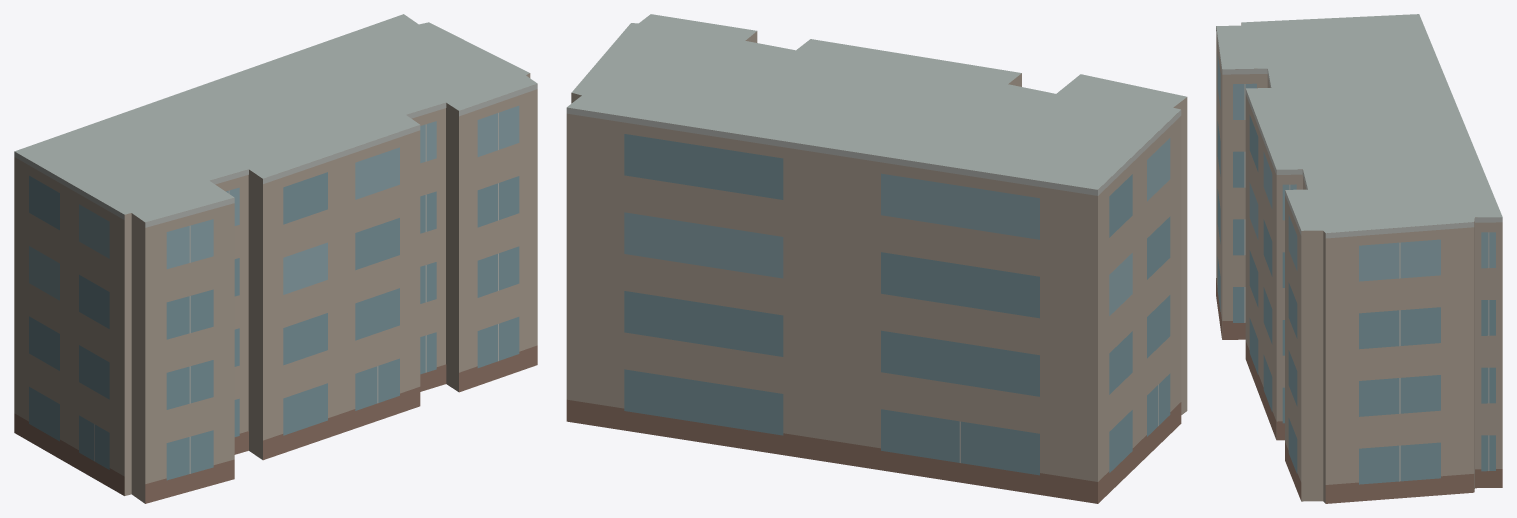
The model's file is survey-upis-32616205.glb.
3 views of the same model, side by side, from view 1: azimuth 30°, elevation 25°; view 2: azimuth 150°, elevation 25°; view 3: azimuth 270°, elevation 25° (orthographic). The views are drawn at different scales.
Visible parts, largest first — view 1: survey-upis-32616205.tmp; view 2: survey-upis-32616205.tmp; view 3: survey-upis-32616205.tmp.
Part boxes in pixels (bbox=[...]): survey-upis-32616205.tmp: bbox=[14, 14, 537, 503]; survey-upis-32616205.tmp: bbox=[566, 14, 1187, 503]; survey-upis-32616205.tmp: bbox=[1216, 14, 1502, 503].
Size of the model in its own units: 21.72 by 12.5 by 12.
